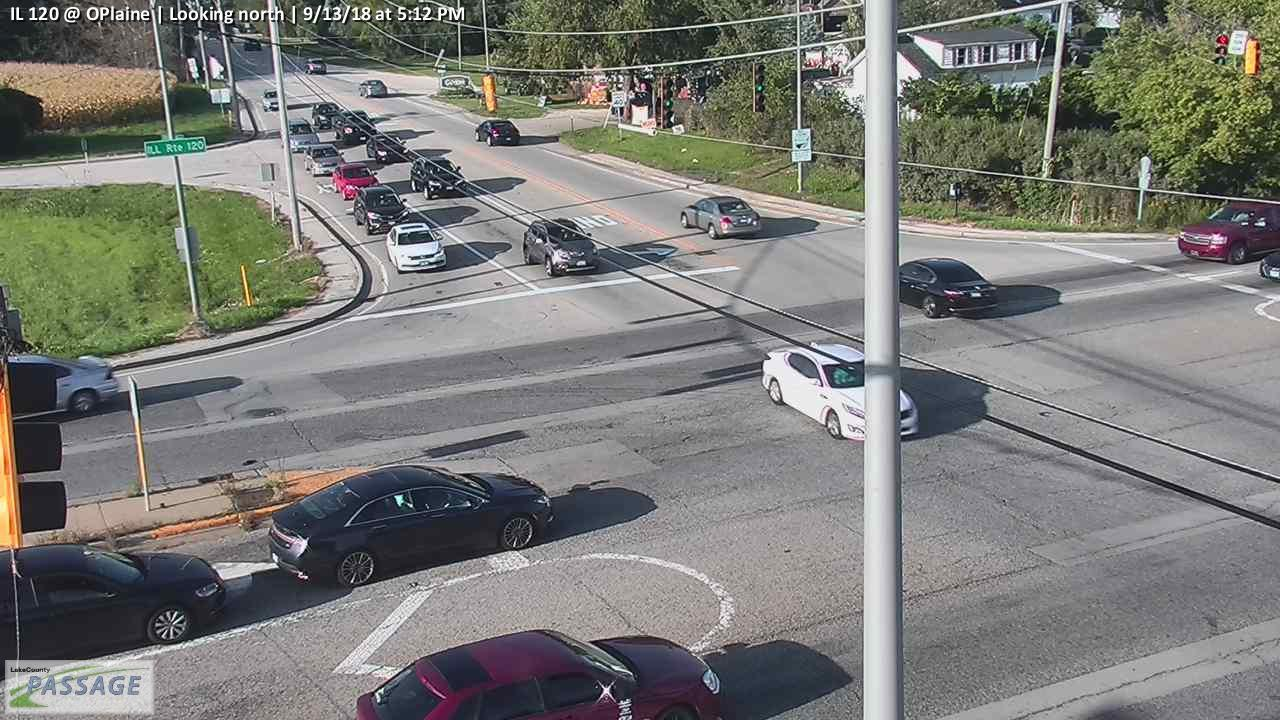SUV: (356, 628, 722, 720), (1175, 200, 1280, 266), (521, 218, 600, 278), (353, 183, 410, 236), (410, 156, 466, 200), (333, 161, 380, 201), (333, 109, 377, 145), (280, 119, 319, 153), (367, 133, 410, 163), (311, 101, 340, 129), (260, 88, 285, 111), (357, 79, 387, 98), (303, 57, 326, 75), (244, 37, 261, 51)
Sedan: (267, 463, 556, 590), (1, 544, 229, 660), (759, 343, 920, 441), (886, 258, 999, 319), (679, 196, 761, 239), (385, 223, 447, 273), (303, 144, 346, 176), (475, 119, 520, 147)
